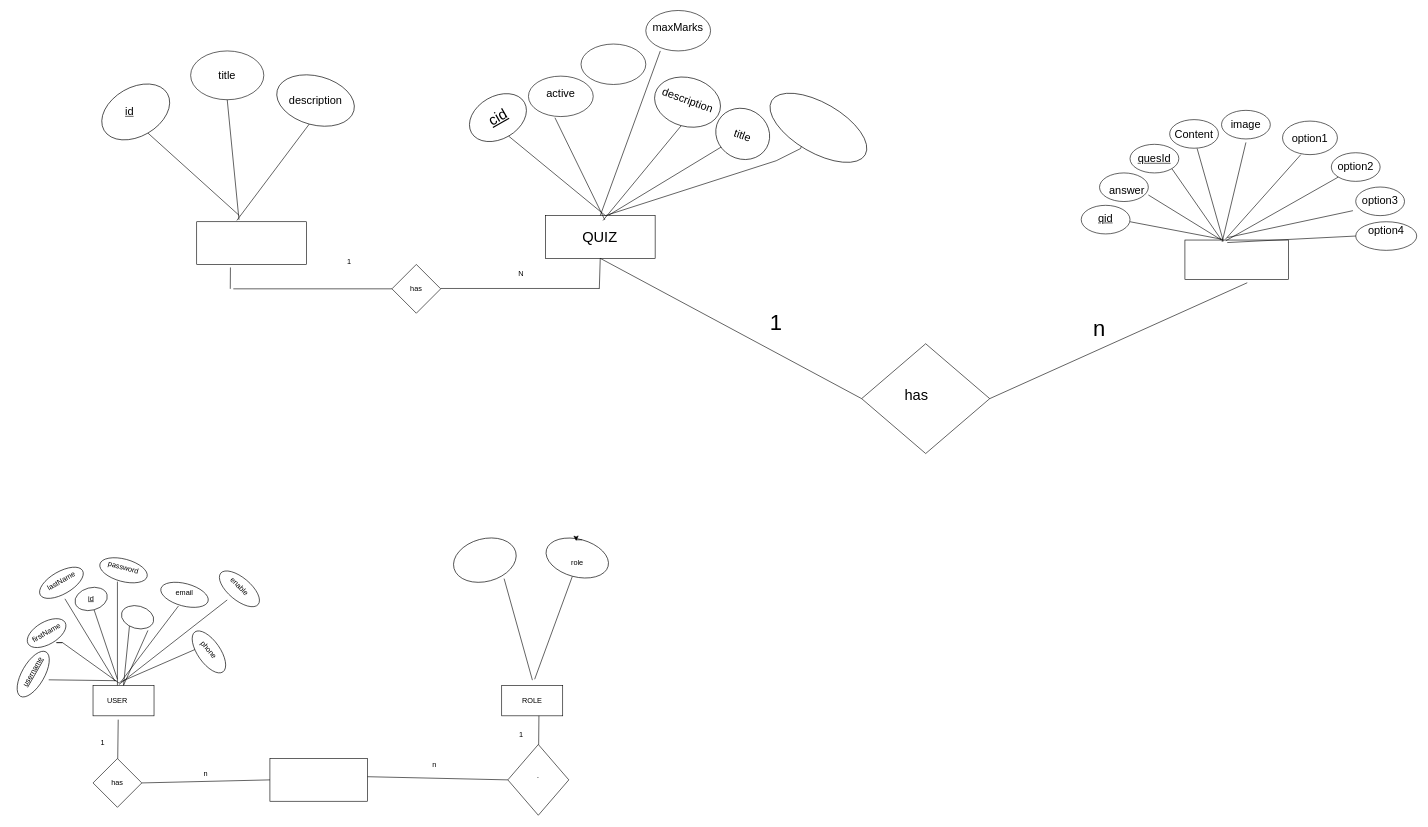
This 1428x827 diagram has some shape labels left out. The centre of each missing label's shape, as x and y in pixels:
"about" belongs at pixel 137 616.
"CATEGORY" belongs at pixel 251 242.
"gid" belongs at pixel 613 63.
"numberOfQuestions" belongs at pixel 818 127.
"Question" belongs at pixel 1236 259.
"roleId" belongs at pixel 484 560.
"USER_ROLE" belongs at pixel 318 779.
